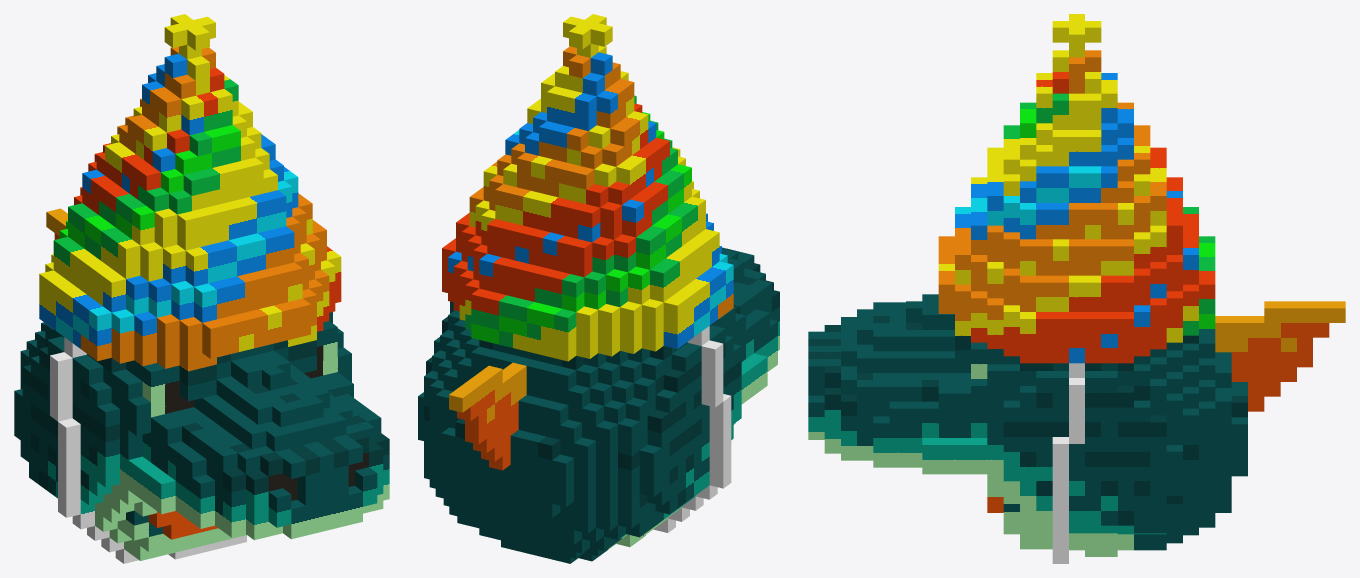
File: birthday hat.gltf
3 views of the same model, side by side, from view 1: azimuth 30°, elevation 25°; view 2: azimuth 150°, elevation 25°; view 3: azimuth 270°, elevation 25° (orthographic). The views are drawn at different scales.
Visible parts, largest first — view 1: 06_Zilla_Head_Birthday_Hat-Mesh; view 2: 06_Zilla_Head_Birthday_Hat-Mesh; view 3: 06_Zilla_Head_Birthday_Hat-Mesh.
Part boxes in pixels (<box>): 06_Zilla_Head_Birthday_Hat-Mesh: <box>14,14,389,563</box>; 06_Zilla_Head_Birthday_Hat-Mesh: <box>418,14,779,563</box>; 06_Zilla_Head_Birthday_Hat-Mesh: <box>808,14,1345,563</box>.
Bounding box in the file's own units: 19 × 34 × 33.
Materials: 1 (1 with a texture image).
